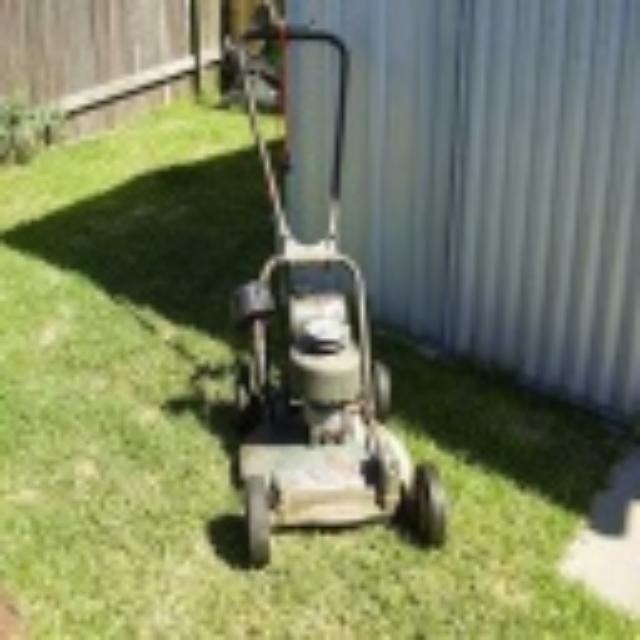Rotary-Mower: (154, 22, 494, 580)
